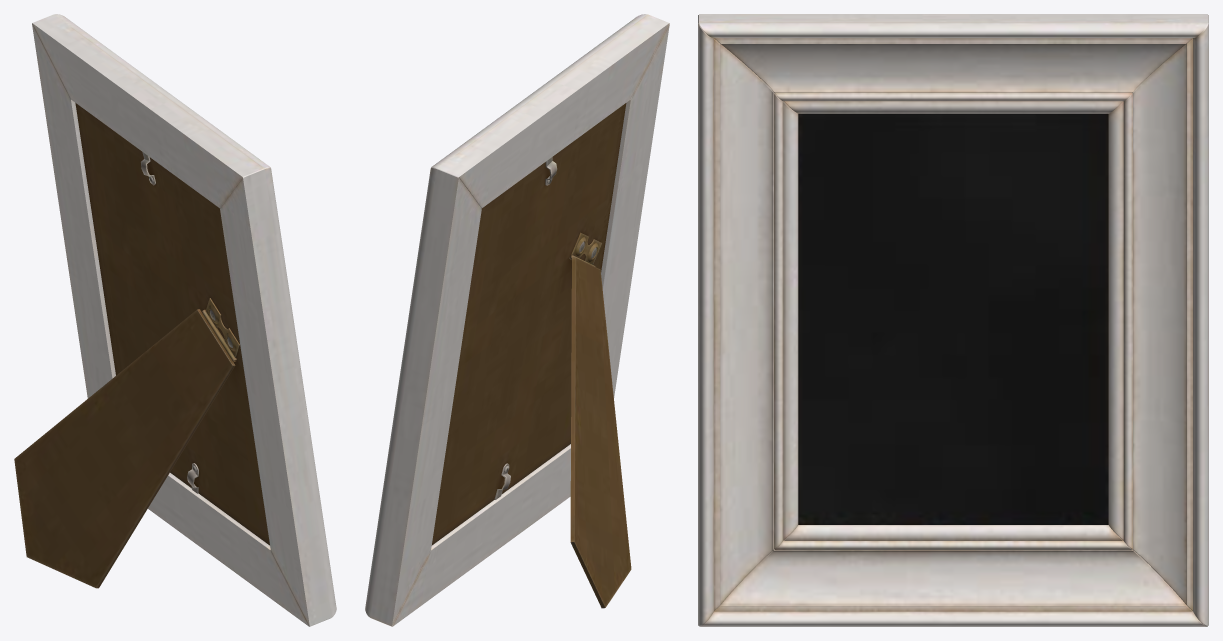
3 renders of one model, left to right at view 1: azimuth 30°, elevation 25°; view 2: azimuth 150°, elevation 25°; view 3: azimuth 270°, elevation 25°, orthographic. The views are drawn at different scales.
Visible parts, largest first — view 1: standing_picture_frame_02; view 2: standing_picture_frame_02; view 3: standing_picture_frame_02.
Part boxes in pixels (x1,y1,x2,y2): standing_picture_frame_02: (14,14,336,626); standing_picture_frame_02: (365,14,669,626); standing_picture_frame_02: (698,14,1208,626).
Size of the model in its own units: 0.1023 by 0.2664 by 0.2169.
3 materials, 3 textured.
